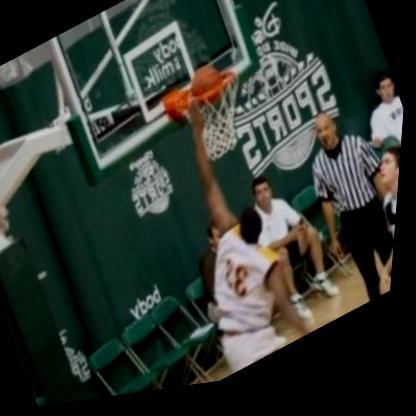basketball: (180, 57, 235, 120)
